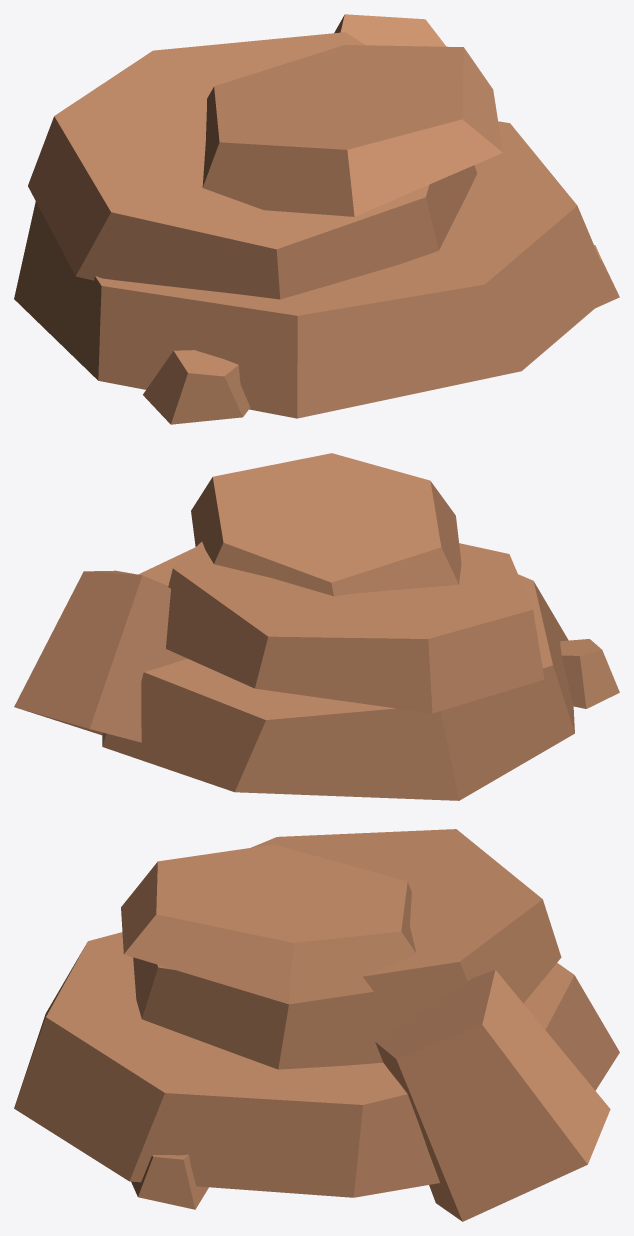
The model's file is rock_slab.glb.
3 renders of one model, top to bottom at view 1: azimuth 30°, elevation 25°; view 2: azimuth 150°, elevation 25°; view 3: azimuth 270°, elevation 25°, orthographic. The views are drawn at different scales.
Visible parts, largest first — view 1: rock_slab; view 2: rock_slab; view 3: rock_slab.
Boxes of the visible parts, x1,y1,x2,y2 form: rock_slab: [14, 14, 619, 424]; rock_slab: [14, 453, 619, 800]; rock_slab: [14, 829, 619, 1221].
Size of the model in its own units: 1.49 by 0.7699 by 1.57.
